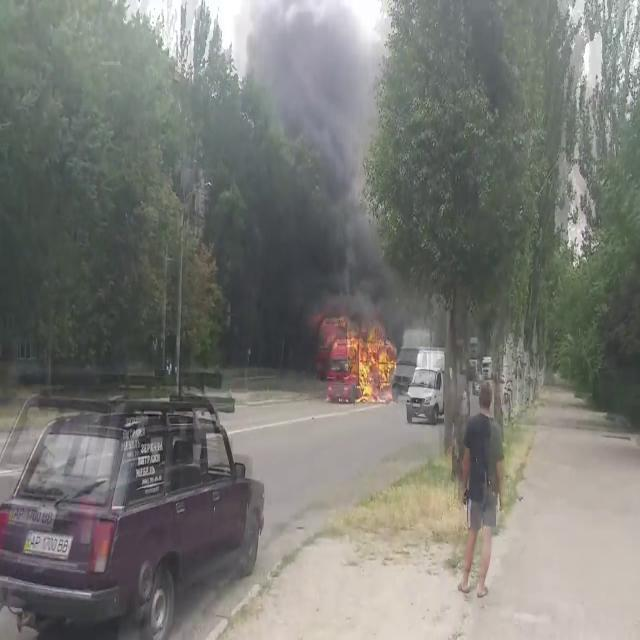Fire: (346, 322, 399, 400)
Smoke: (210, 1, 410, 340)
